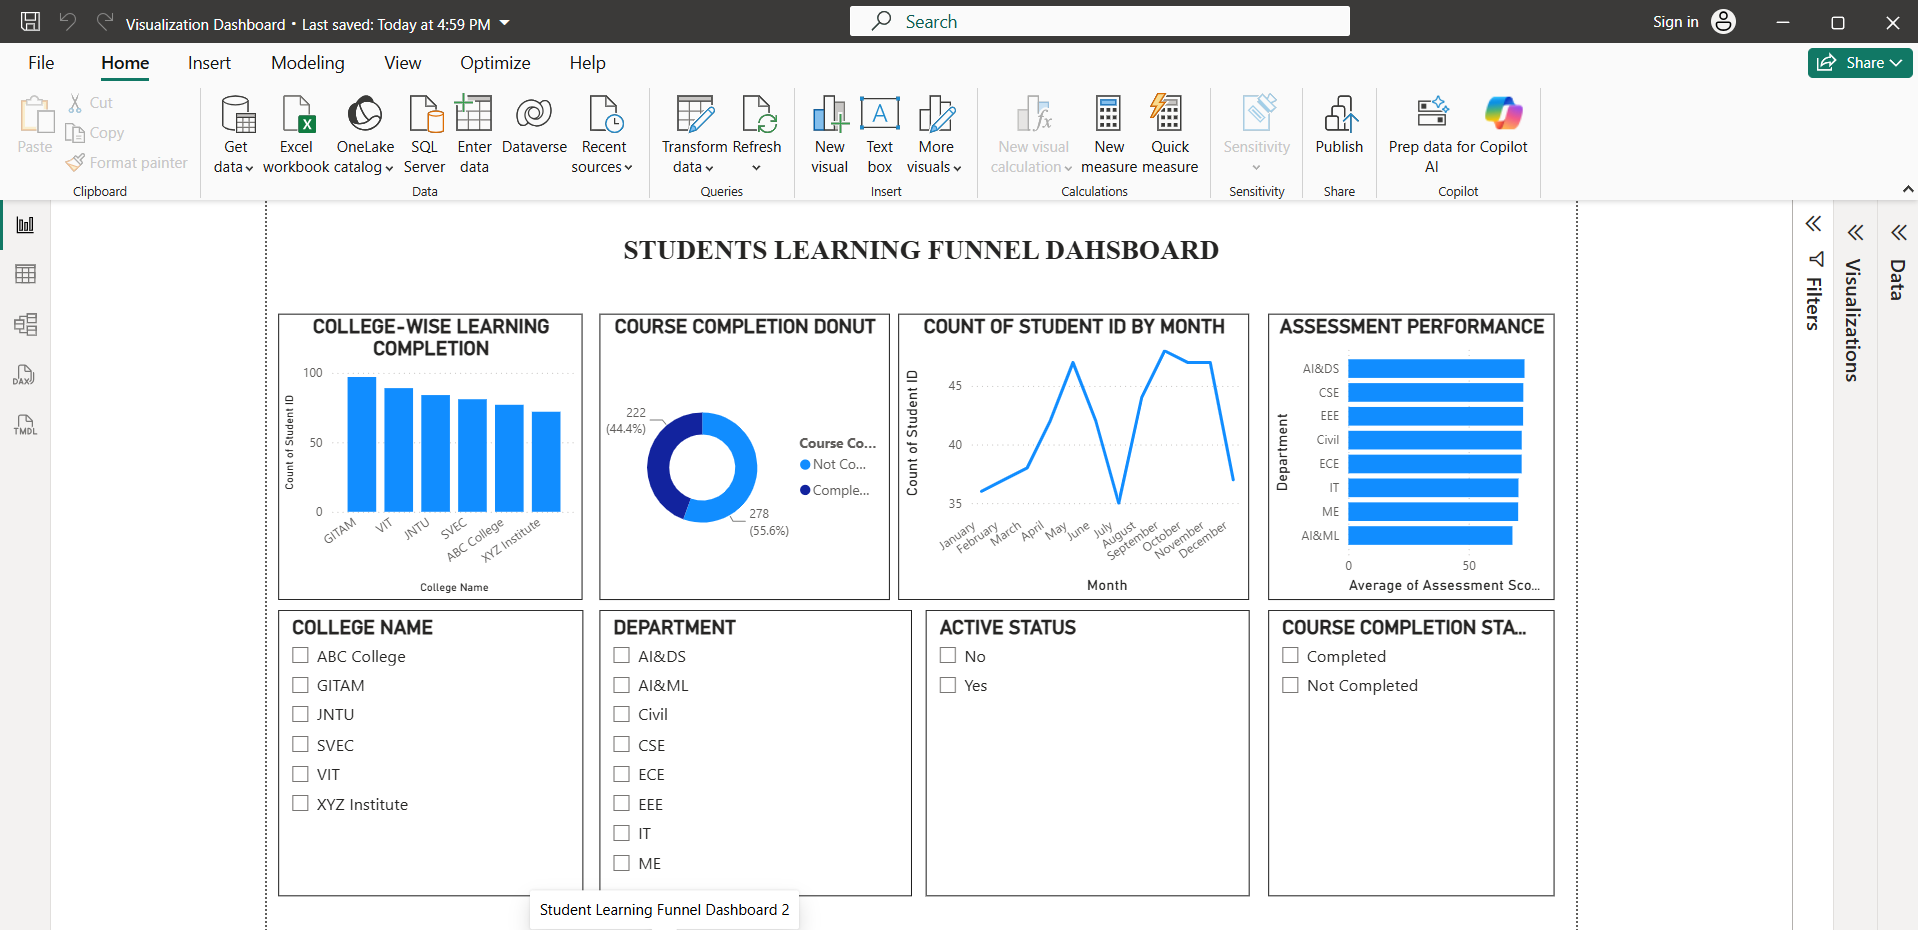

Layout of this report page (visuals, bound fields, positions):
{"tool":"powerbi","page":{"name":"Student Learning Funnel Dashboard 2","canvas":[1280,720],"ordinal":1},"visuals":[{"type":"clusteredColumnChart","title":"COLLEGE-WISE LEARNING COMPLETION","fields":{"Category":["Students_data.College Name"],"Y":["CountNonNull(Students_data.Student ID)"]},"box":[11,111.1,297.8,279.9],"z":0},{"type":"donutChart","title":"COURSE COMPLETION DONUT","fields":{"Category":["Students_data.Course Completion Status"],"Y":["CountNonNull(Students_data.Student ID)"]},"box":[325.3,111.3,283.7,280],"z":1000},{"type":"lineChart","title":"COUNT OF STUDENT ID BY MONTH","fields":{"Category":["Students_data.Registration Date.Variation.Date Hierarchy.Month"],"Y":["CountNonNull(Students_data.Student ID)"]},"box":[617.5,111.1,343.1,279.9],"z":2000},{"type":"clusteredBarChart","title":"ASSESSMENT PERFORMANCE","fields":{"Category":["Students_data.Department"],"Y":["Avg(Students_data.Assessment Score)"]},"box":[979.5,111.3,280,280],"z":3000},{"type":"slicer","title":"COLLEGE NAME","fields":{"Values":["Students_data.College Name"]},"box":[11,401,298,280],"z":4000},{"type":"slicer","title":"DEPARTMENT","fields":{"Values":["Students_data.Department"]},"box":[325.3,401.1,305.7,280],"z":5000},{"type":"slicer","title":"ACTIVE STATUS","fields":{"Values":["Students_data.Active Status"]},"box":[644.4,401.1,316.7,280],"z":6000},{"type":"slicer","title":"COURSE COMPLETION STATUS","fields":{"Values":["Students_data.Course Completion Status"]},"box":[979.5,401.1,280,280],"z":7000},{"type":"textbox","box":[0,29.3,1280.3,47.7],"z":8000}]}

Visuals, with their boxes on the page's 1280x720 design canvas (x1, y1, x2, y2). These are canvas units, not pixel positions in the 1918x930 screenshot, which may show the page scaled, cropped or inside an application window:
"COLLEGE-WISE LEARNING COMPLETION" clusteredColumnChart: [x1=11, y1=111, x2=309, y2=391]
"COURSE COMPLETION DONUT" donutChart: [x1=325, y1=111, x2=609, y2=391]
"COUNT OF STUDENT ID BY MONTH" lineChart: [x1=618, y1=111, x2=961, y2=391]
"ASSESSMENT PERFORMANCE" clusteredBarChart: [x1=980, y1=111, x2=1260, y2=391]
"COLLEGE NAME" slicer: [x1=11, y1=401, x2=309, y2=681]
"DEPARTMENT" slicer: [x1=325, y1=401, x2=631, y2=681]
"ACTIVE STATUS" slicer: [x1=644, y1=401, x2=961, y2=681]
"COURSE COMPLETION STATUS" slicer: [x1=980, y1=401, x2=1260, y2=681]
textbox: [x1=0, y1=29, x2=1280, y2=77]
